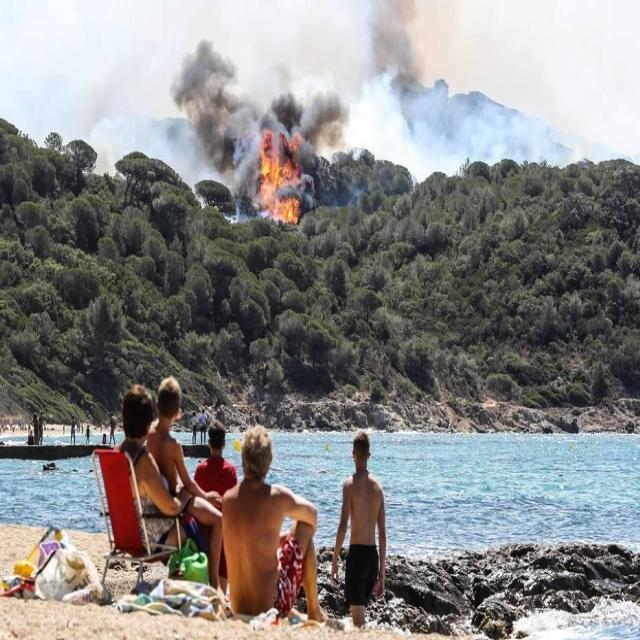Fire: (256, 132, 309, 225)
Smoke: (1, 1, 486, 128), (315, 129, 576, 175), (90, 133, 262, 181)
